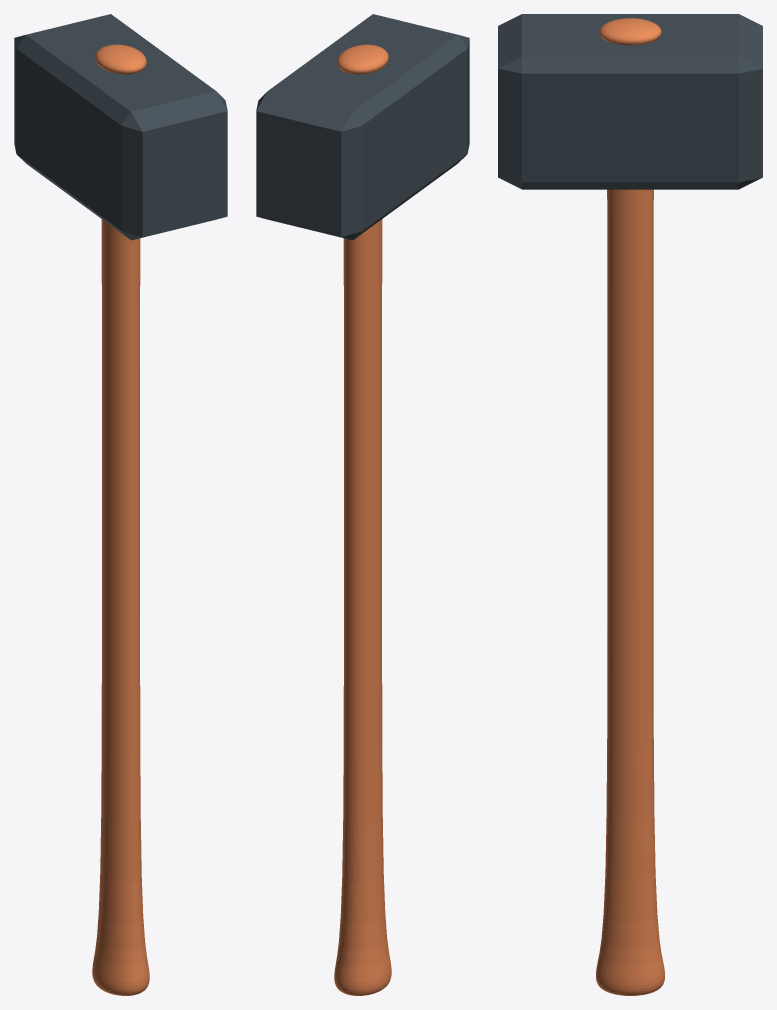
The model's file is Hummer.fbx.
3 views of the same model, side by side, from view 1: azimuth 30°, elevation 25°; view 2: azimuth 150°, elevation 25°; view 3: azimuth 270°, elevation 25° (orthographic). The views are drawn at different scales.
Visible parts, largest first — view 1: Hummer; view 2: Hummer; view 3: Hummer.
Boxes of the visible parts, bbox=[...] form: Hummer: bbox=[14, 14, 227, 995]; Hummer: bbox=[256, 14, 469, 995]; Hummer: bbox=[498, 14, 762, 995].
Bounding box in the file's own units: 0.1228 × 1.06 × 0.2629.
